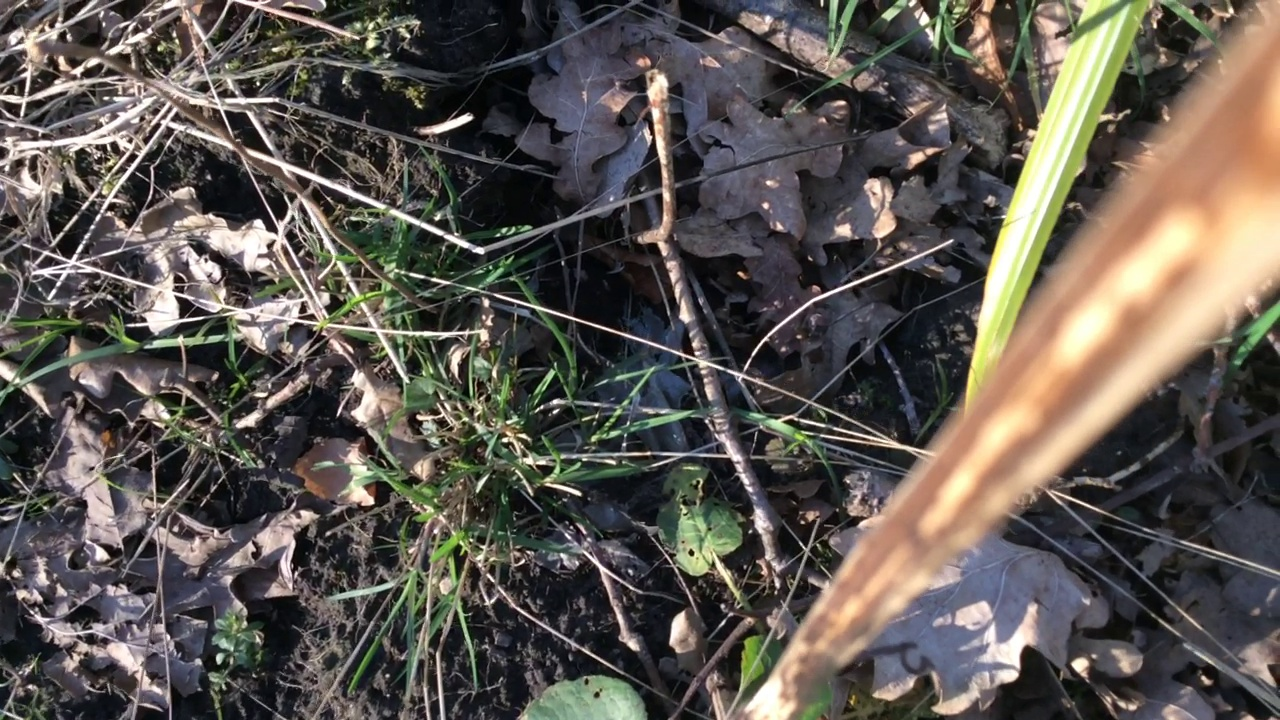rumex: (521, 463, 770, 720)
